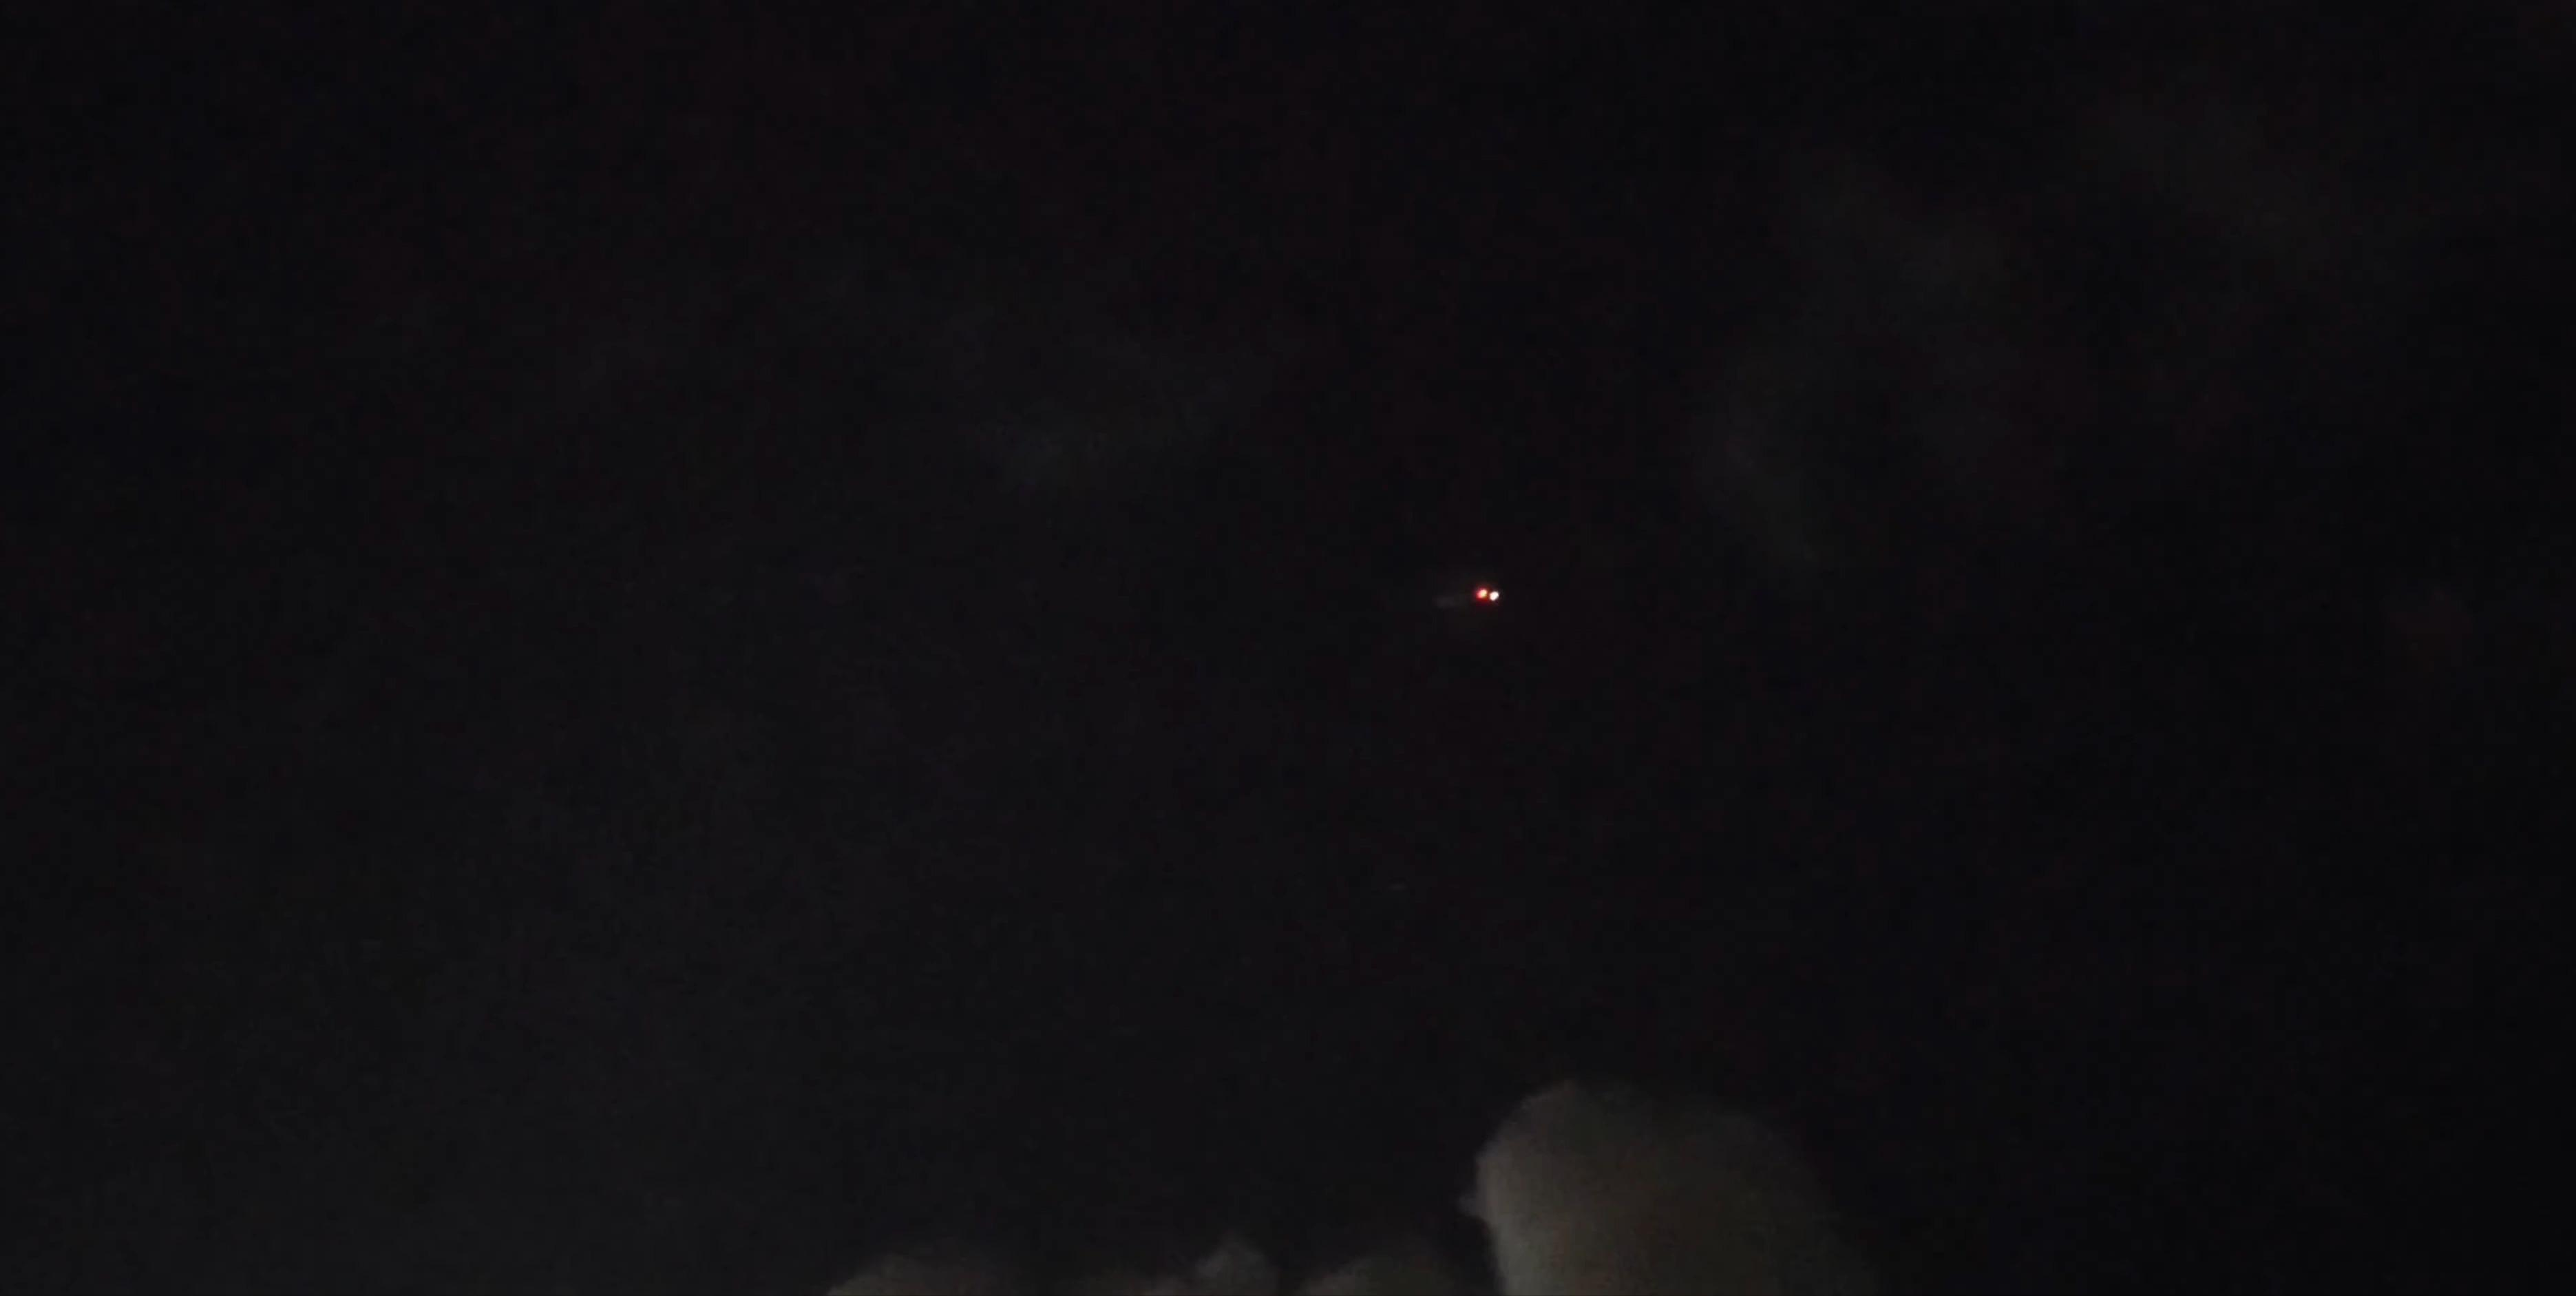Plane: (1400, 562, 1555, 630)
